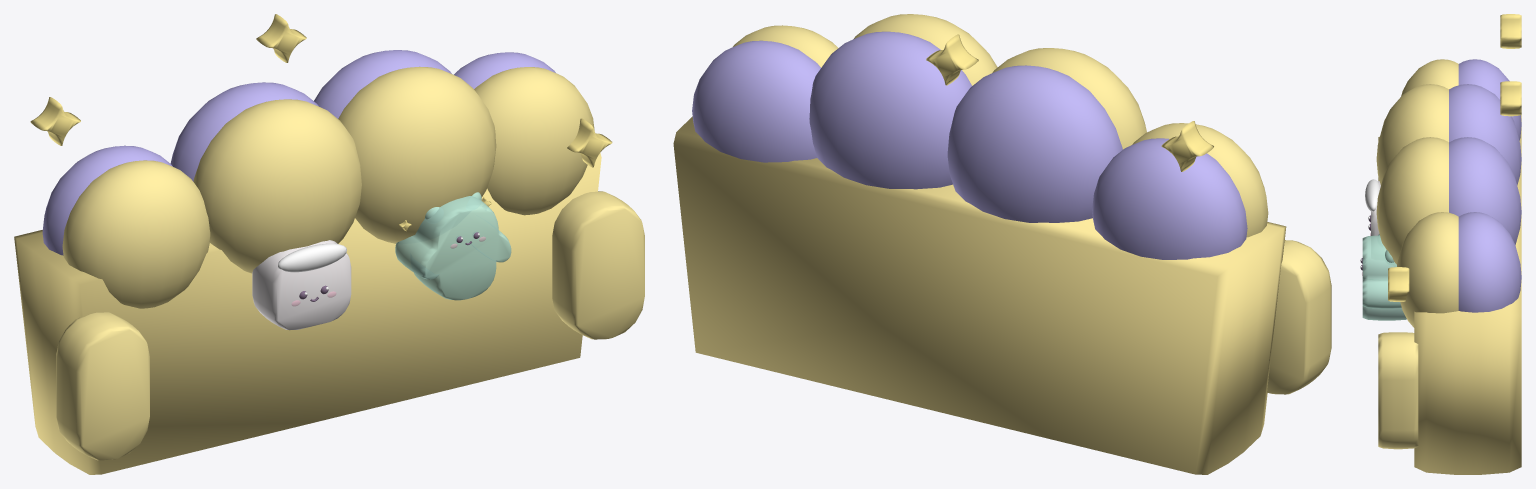
File: decor_1_star.glb
3 views of the same model, side by side, from view 1: azimuth 30°, elevation 25°; view 2: azimuth 150°, elevation 25°; view 3: azimuth 270°, elevation 25° (orthographic). The views are drawn at different scales.
Visible parts, largest first — view 1: decor_1_star; view 2: decor_1_star; view 3: decor_1_star.
Part boxes in pixels (box(x1,y1,x2,y2)): decor_1_star: box(14, 14, 644, 474); decor_1_star: box(673, 14, 1331, 474); decor_1_star: box(1362, 14, 1521, 474).
Bounding box in the file's own units: 21.38 × 13.01 × 6.43.
